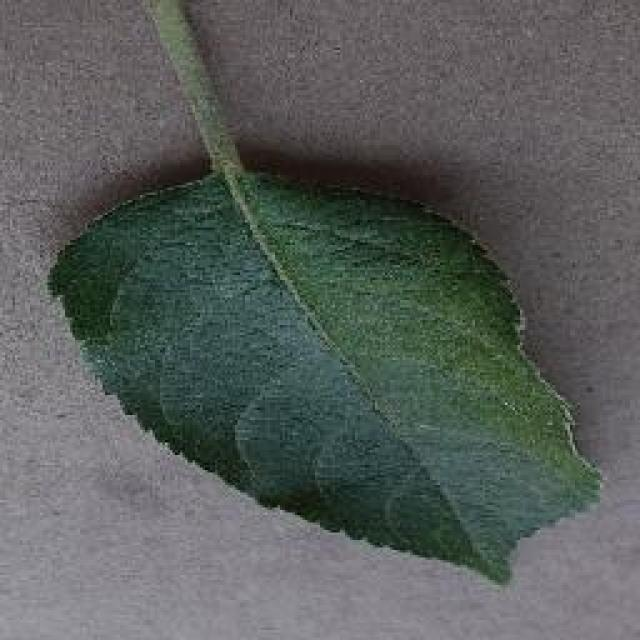apple healthy: (45, 163, 603, 585)
